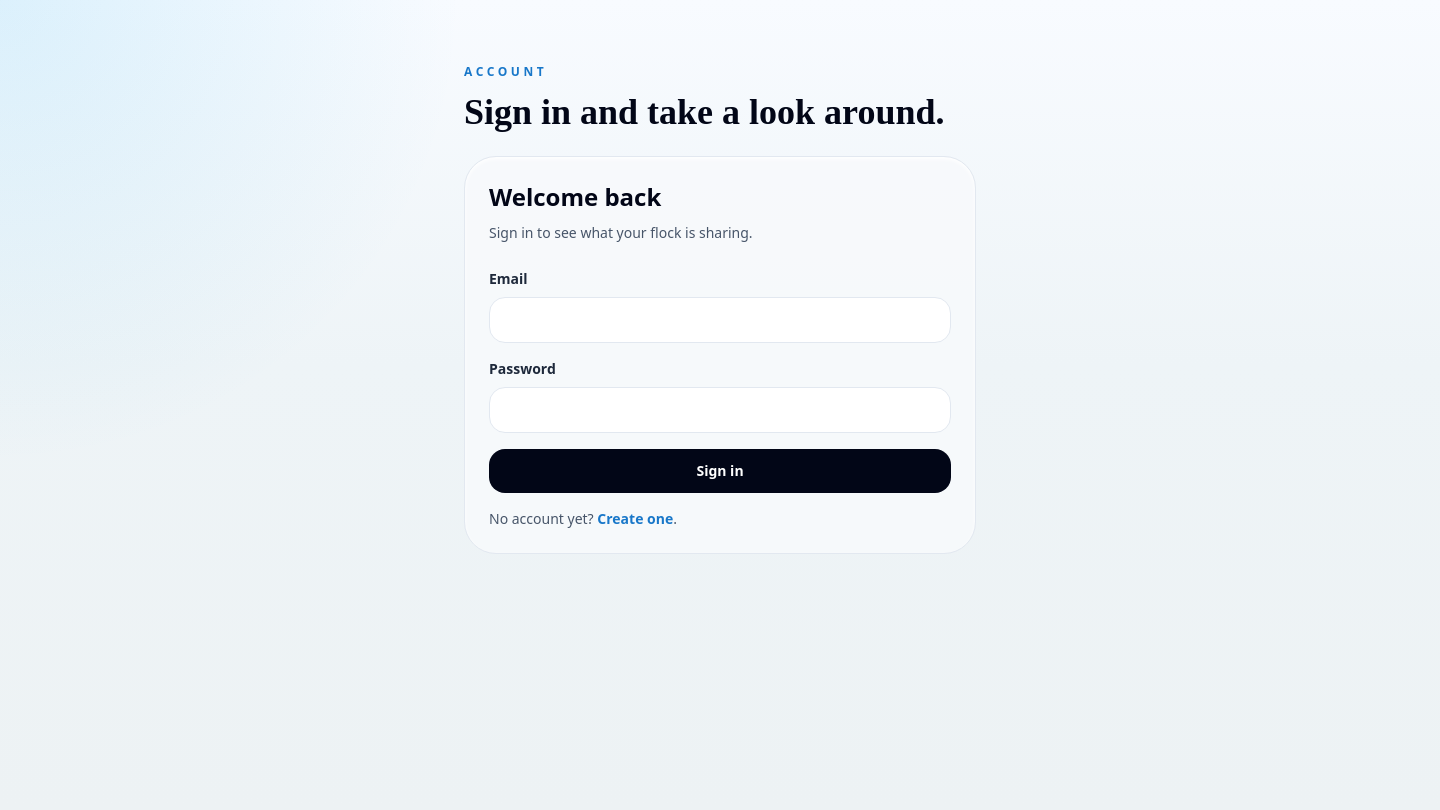
Scenario: App authentication flow › submits the login form successfully
Type "demo@example.com" into the field labelled "Email". click: [720, 320]
box: [489,297,951,343]
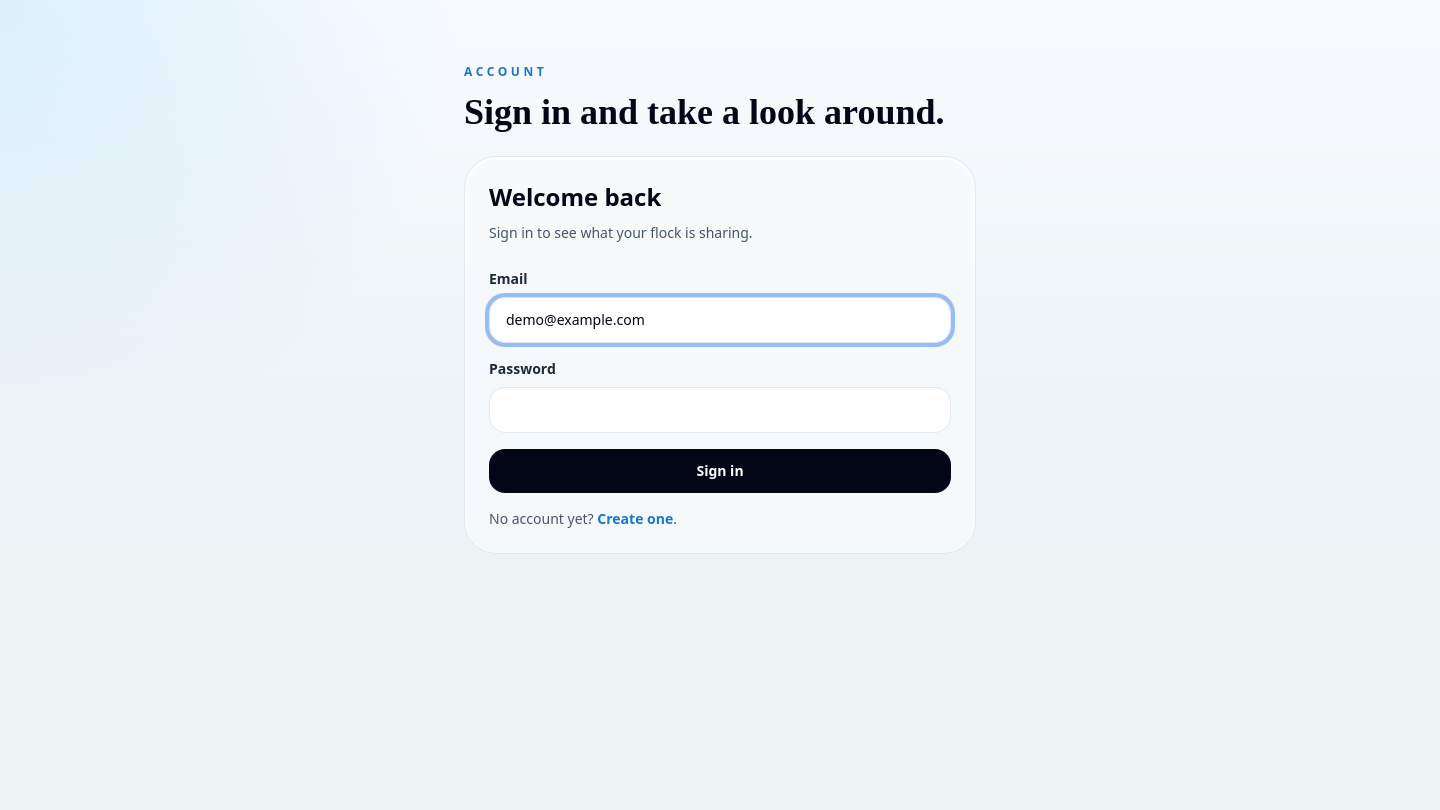
Type "Password123!" into the password field labelled "Password". click: [720, 410]
box: [489,387,951,433]
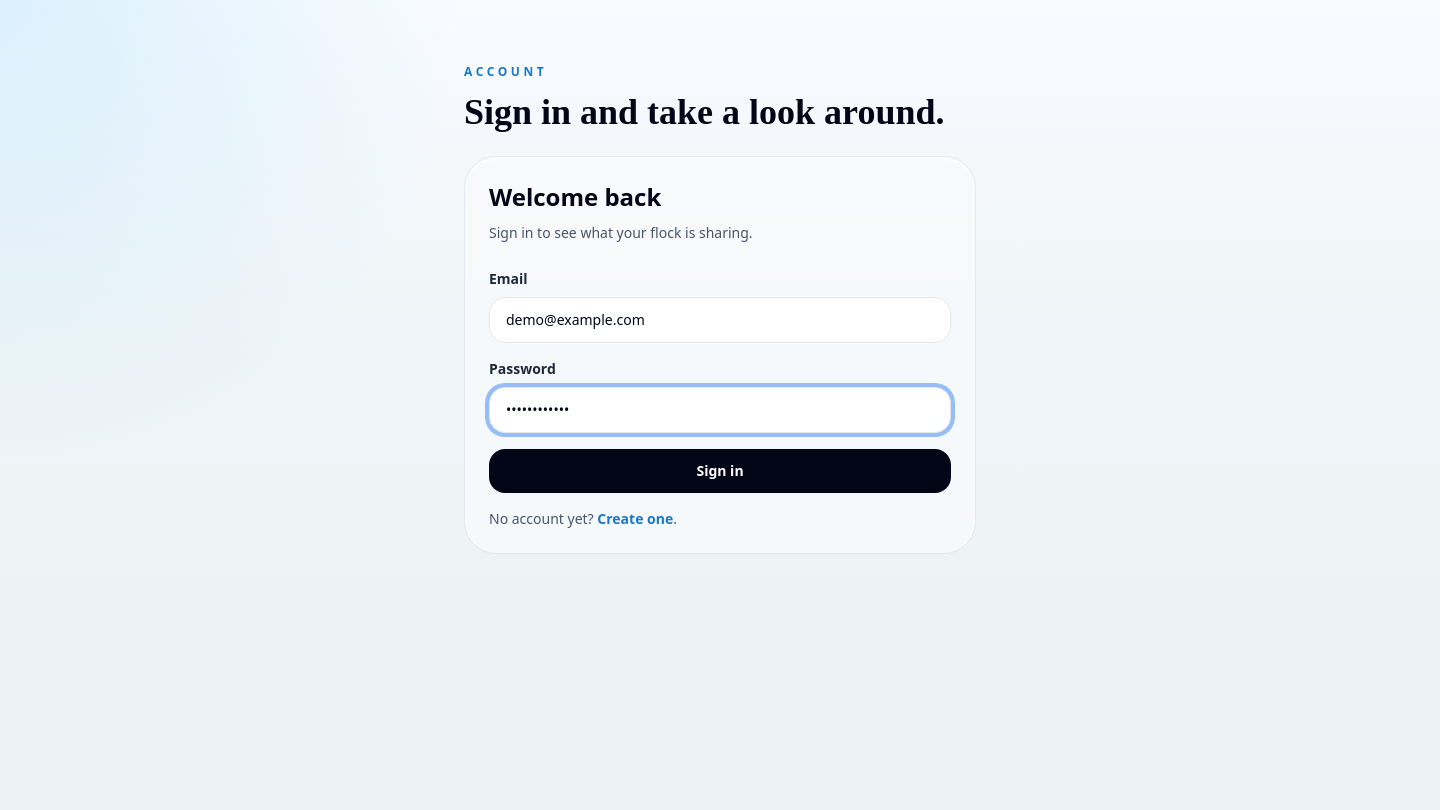
Click the button "Sign in". click: [720, 471]
box: [489,449,951,493]
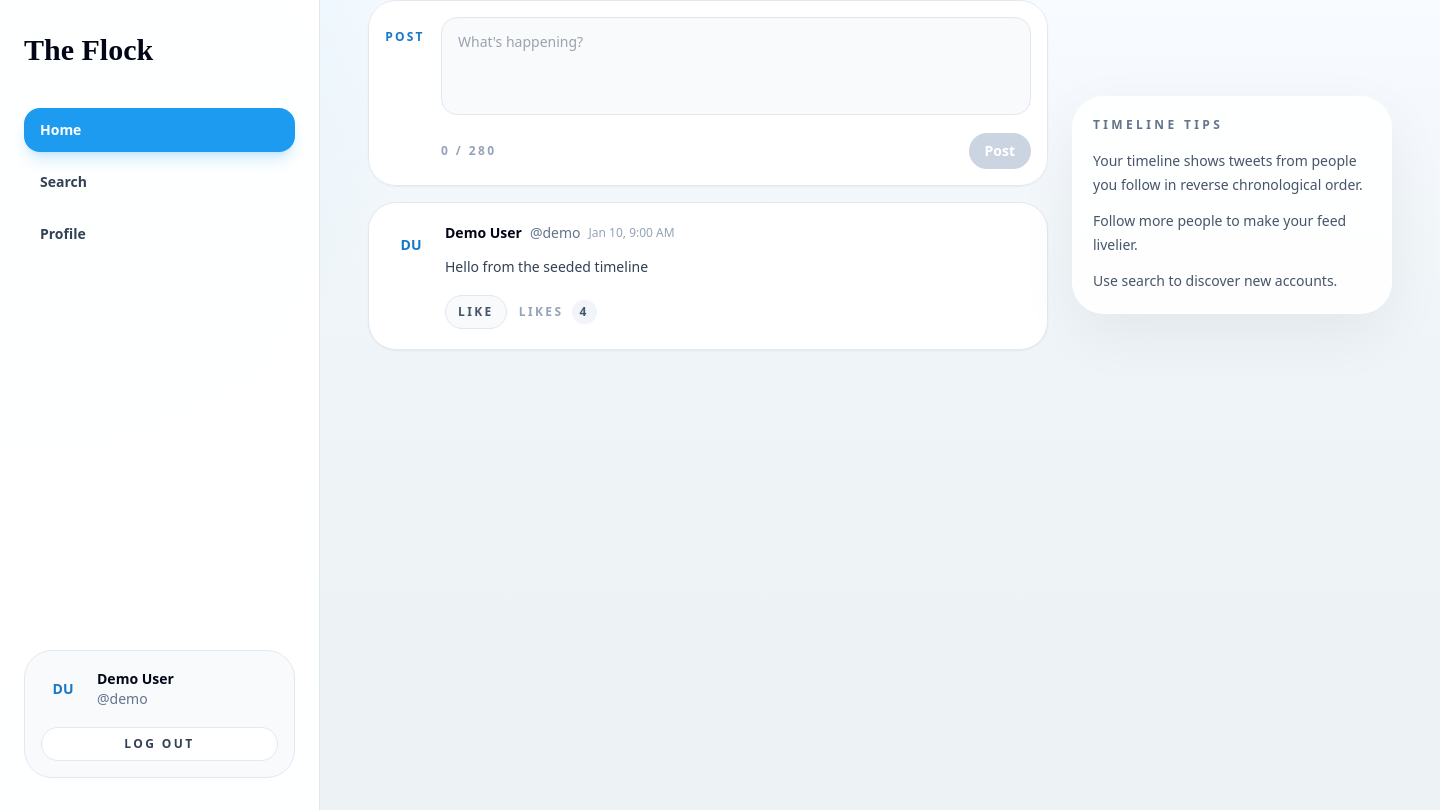
Now the text "Hello from the seeded timeline" is shown, box [445,257,648,276]
